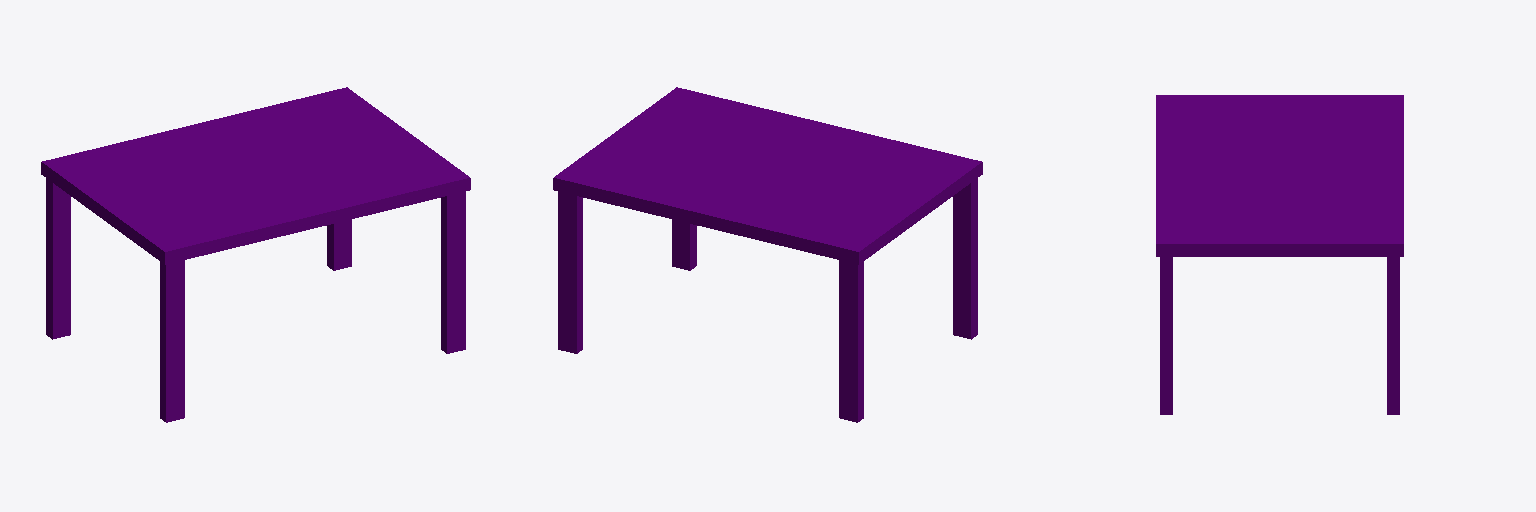
Rendered from table_001.obj.
The picture shows the model from 3 angles: view 1: azimuth 30°, elevation 25°; view 2: azimuth 150°, elevation 25°; view 3: azimuth 270°, elevation 25°; orthographic projection.
Parts seen in each view (by area): view 1: Box001; view 2: Box001; view 3: Box001.
Part boxes in pixels (bbox=[...]): Box001: bbox=[41, 87, 470, 422]; Box001: bbox=[553, 87, 982, 422]; Box001: bbox=[1156, 95, 1403, 414].
Bounding box in the file's own units: 50 × 27 × 35.